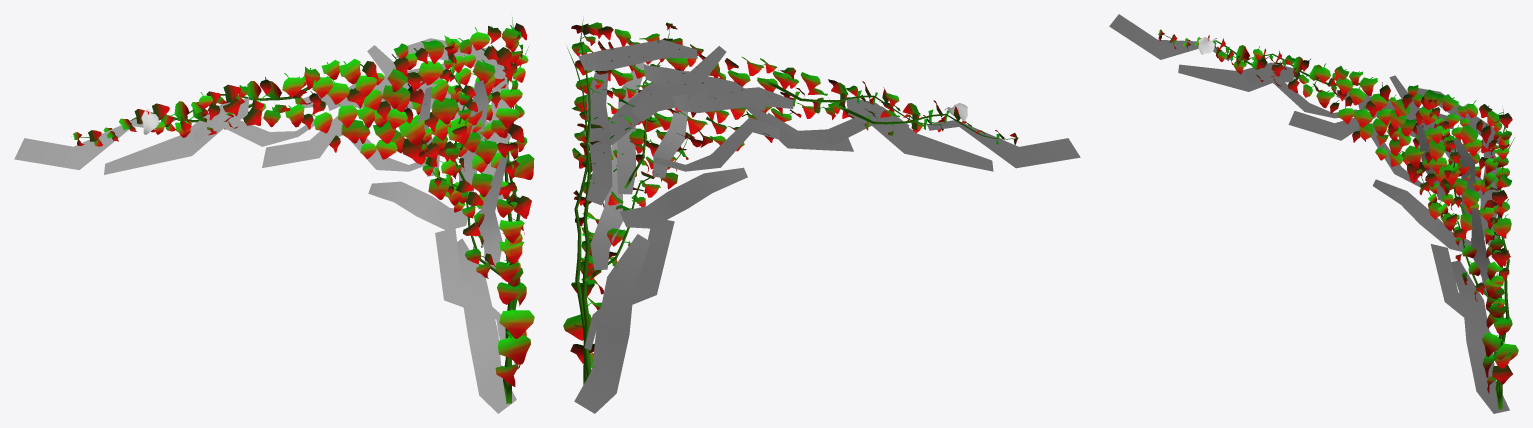
File: Var1_LOD0.fbx
The picture shows the model from 3 angles, left to right: view 1: azimuth 30°, elevation 25°; view 2: azimuth 150°, elevation 25°; view 3: azimuth 330°, elevation 25°; orthographic projection. The views are drawn at different scales.
Visible parts, largest first — view 1: _a315_Var1_LOD0; view 2: _a315_Var1_LOD0; view 3: _a315_Var1_LOD0.
Part boxes in pixels (x1,y1,x2,y2): _a315_Var1_LOD0: (14, 17, 534, 413); _a315_Var1_LOD0: (563, 17, 1080, 413); _a315_Var1_LOD0: (1109, 14, 1518, 413).
Size of the model in its own units: 126 by 93.47 by 9.28.
